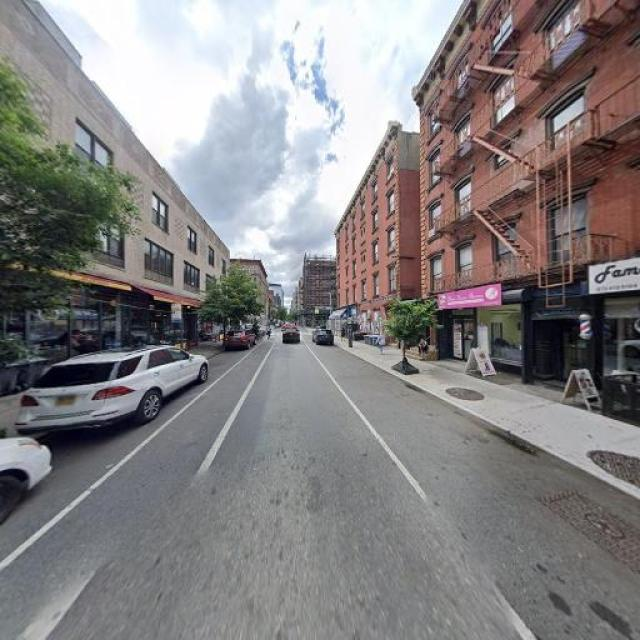Building: (1, 1, 229, 393), (423, 1, 640, 409)
